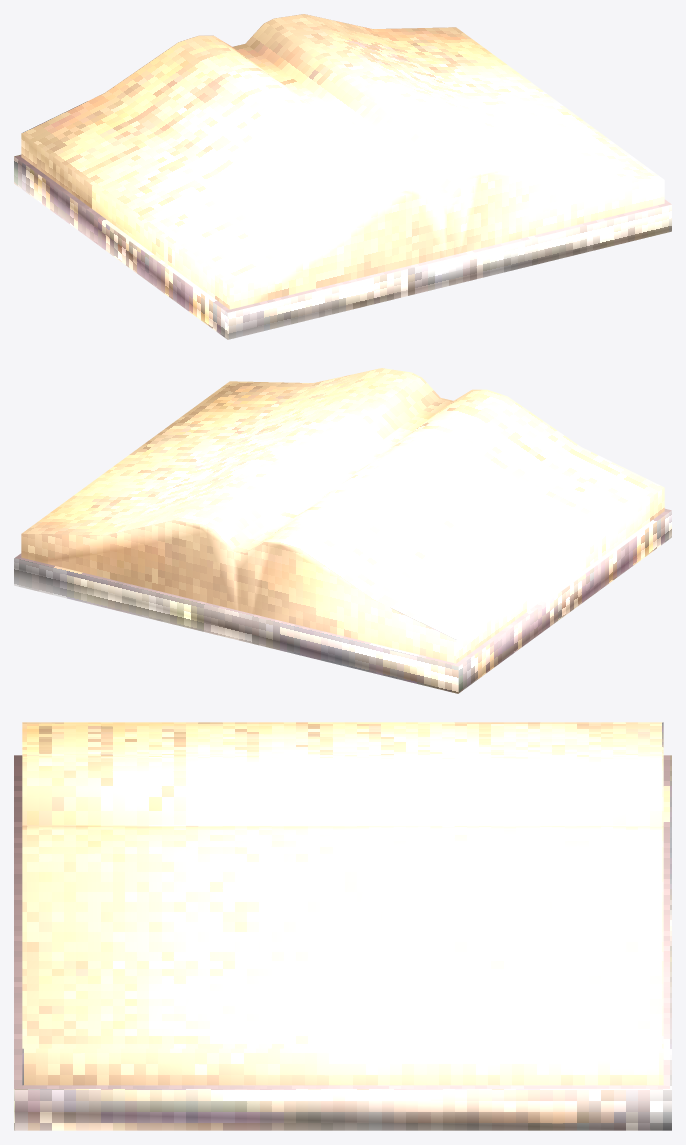
Rendered from book_2.glb.
3 views of the same model, one above another, from view 1: azimuth 30°, elevation 25°; view 2: azimuth 150°, elevation 25°; view 3: azimuth 270°, elevation 25° (orthographic). The views are drawn at different scales.
Visible parts, largest first — view 1: Book_2; view 2: Book_2; view 3: Book_2.
Part boxes in pixels (x1,y1,x2,y2): Book_2: (14, 14, 671, 339); Book_2: (14, 368, 671, 693); Book_2: (14, 722, 671, 1130).
Size of the model in its own units: 2.04 by 0.4635 by 1.7.
